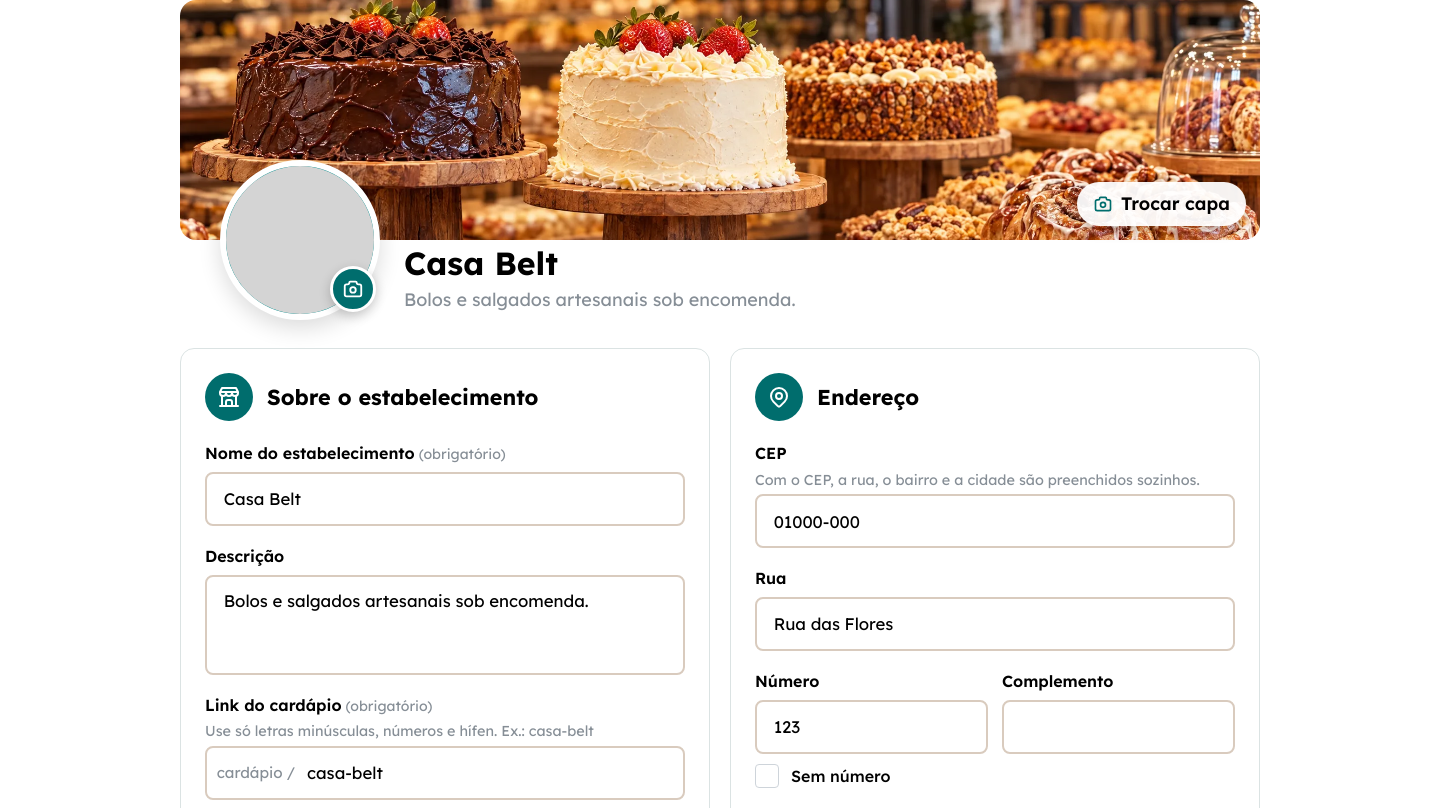
Test: PaginaEstabelecimento (US2, RF03, RF04) › salva com o WhatsApp no formato do banco e confirma
Replace the text in the field labelled "Nome do estabelecimento (obrigatório)" with "Casa Belt Doces" at [445, 499], box [205,472,685,526]
(page scrolled)
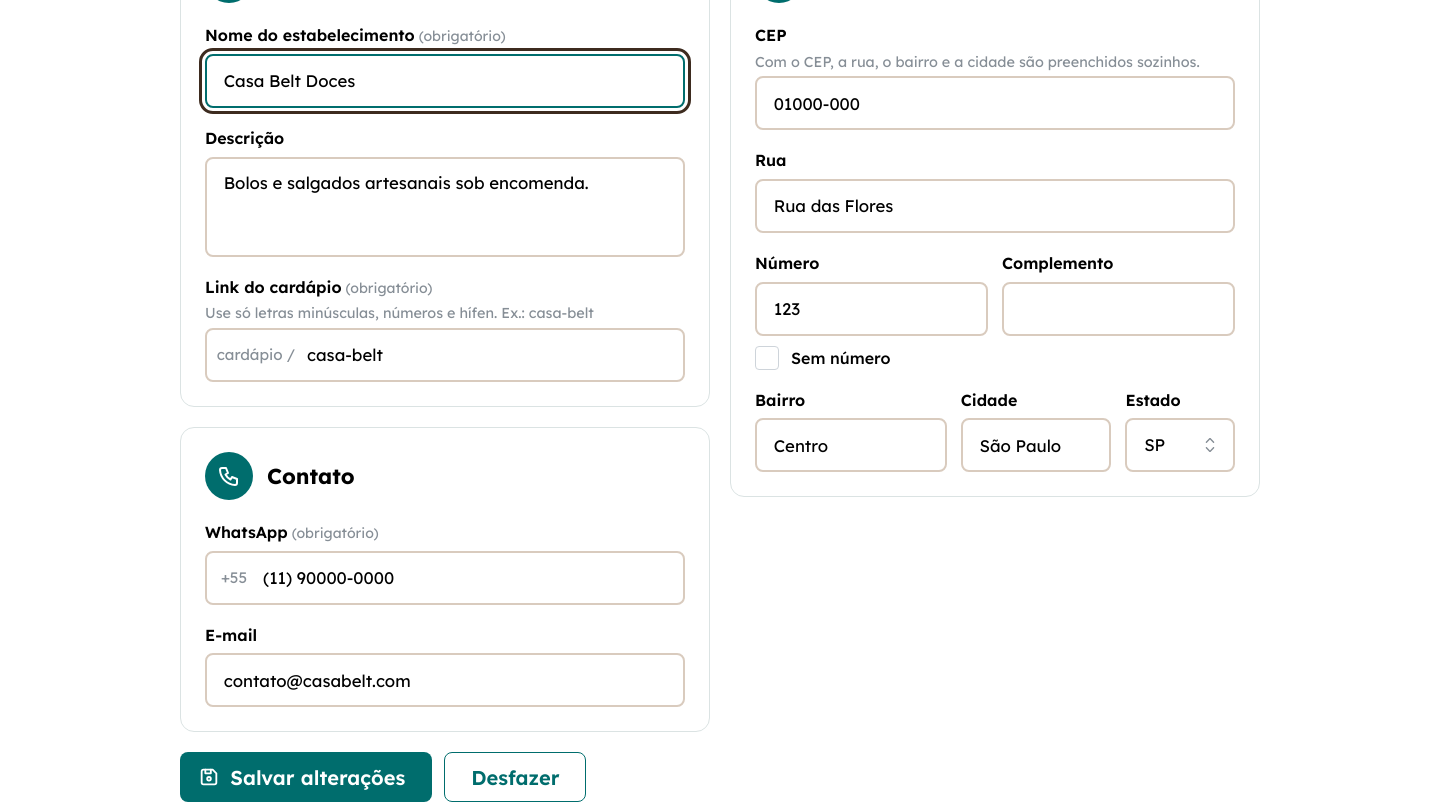
Click the button "Salvar alterações".
click(306, 777)  # box [180,752,432,802]
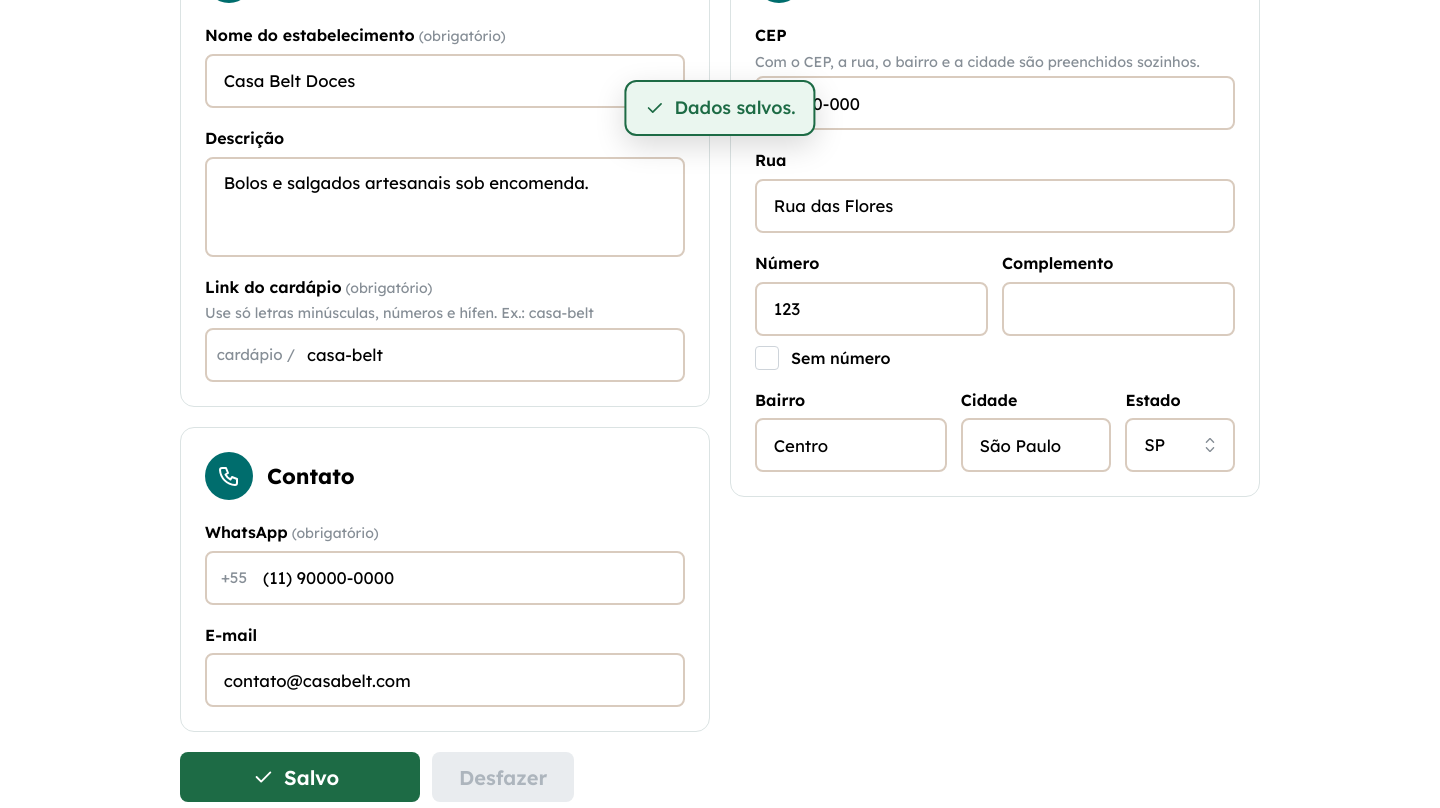
expect the text "Dados salvos." is shown: met, box [624,80,816,136]
